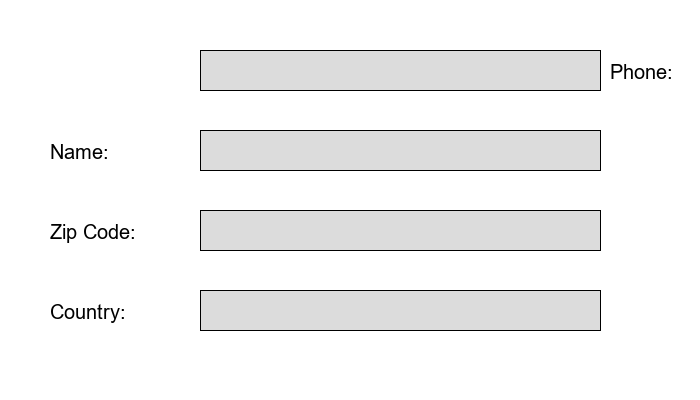Label: (50, 220, 130, 239), (50, 300, 120, 319), (610, 60, 667, 75), (50, 140, 103, 155)
Textbox: (200, 50, 600, 90), (200, 130, 600, 170), (200, 210, 600, 250), (200, 290, 600, 330)
